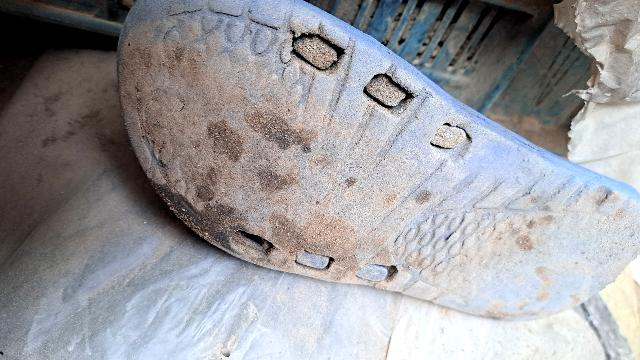sandal: (94, 2, 640, 313)
